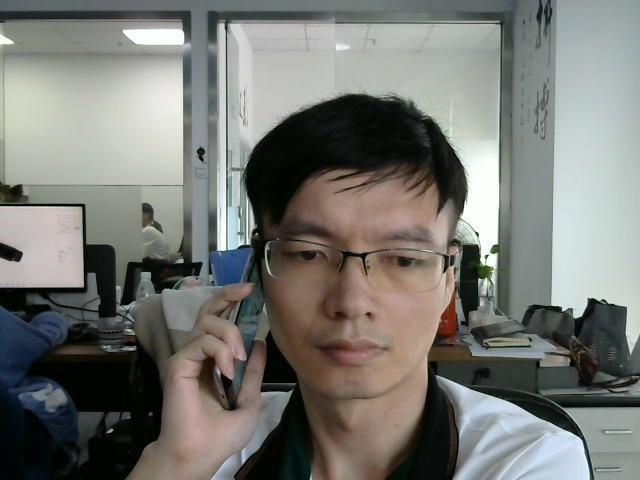hand: (164, 287, 263, 439)
